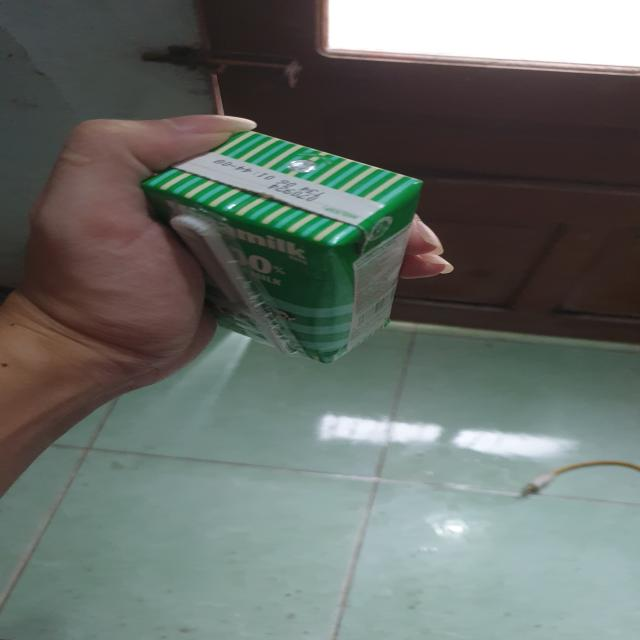Vina: (150, 138, 430, 365)
